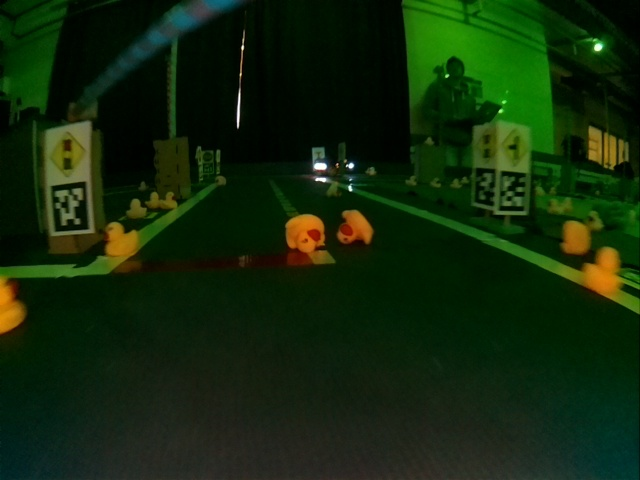Duckie: (584, 247, 621, 292), (2, 278, 26, 332), (338, 210, 373, 245), (286, 214, 322, 248), (104, 223, 136, 255), (561, 221, 589, 254), (127, 199, 146, 219), (159, 192, 178, 209), (147, 191, 158, 209)
Intersection sign: (502, 130, 530, 168)
QR code: (51, 183, 91, 233), (498, 171, 526, 213), (474, 167, 494, 206)
Signal sign: (48, 128, 87, 176), (475, 129, 494, 163)
